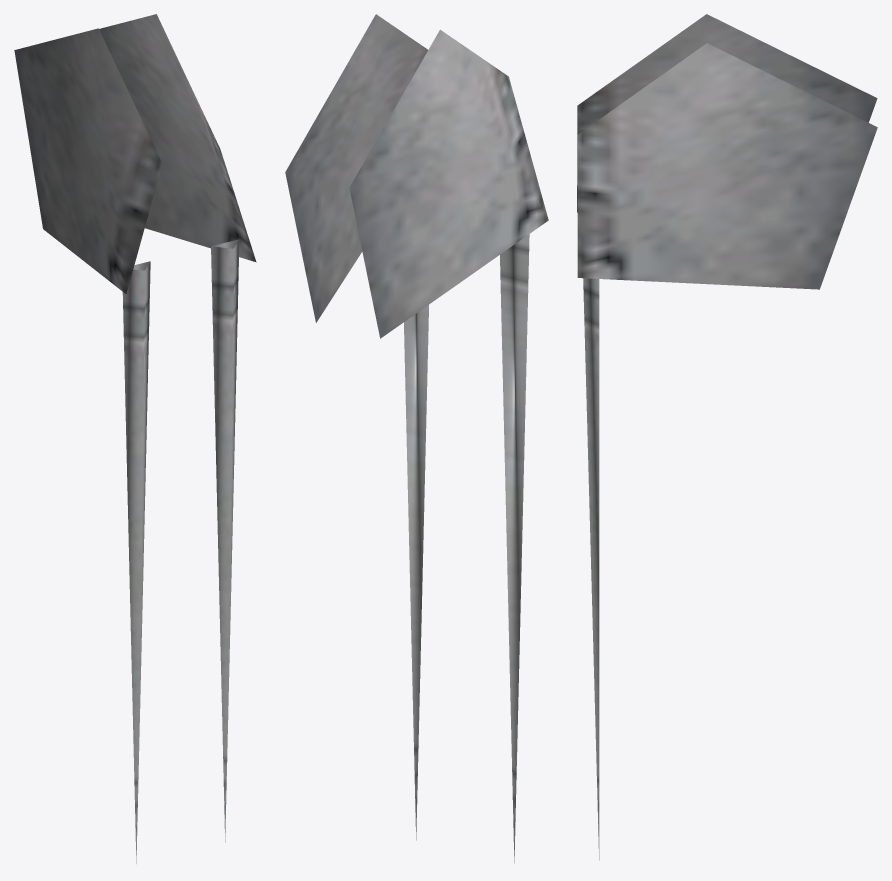
The model's file is lambda_r_wing_guns_faction_l3.fbx.
The picture shows the model from 3 angles, left to right: view 1: azimuth 30°, elevation 25°; view 2: azimuth 150°, elevation 25°; view 3: azimuth 270°, elevation 25°; orthographic projection. The views are drawn at different scales.
Visible parts, largest first — view 1: mesh_node; view 2: mesh_node; view 3: mesh_node.
Part boxes in pixels (x1,y1,x2,y2): mesh_node: (14,14,256,863); mesh_node: (285,14,548,863); mesh_node: (577,14,877,860).
Bounding box in the file's own units: 0.9143 × 5.33 × 1.78.
Materials: 2 (2 with a texture image).
